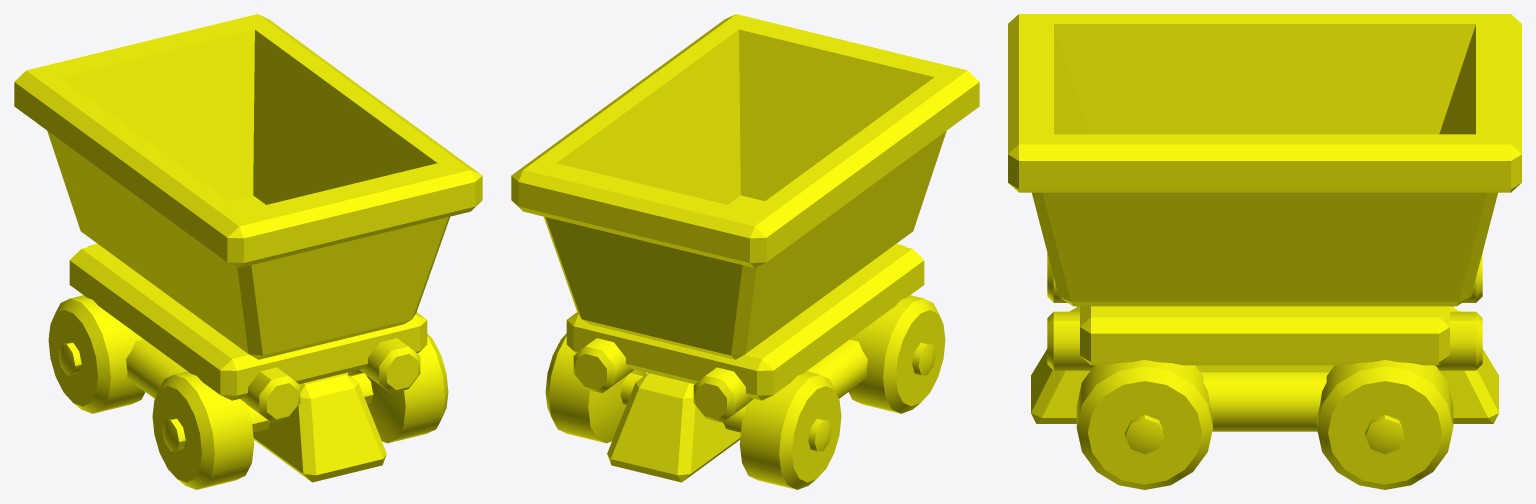
Rendered from kaykit-train-tender-empty.glb.
The picture shows the model from 3 angles, left to right: view 1: azimuth 30°, elevation 25°; view 2: azimuth 150°, elevation 25°; view 3: azimuth 270°, elevation 25°; orthographic projection. The views are drawn at different scales.
Visible parts, largest first — view 1: train_tender_empty; view 2: train_tender_empty; view 3: train_tender_empty.
Boxes of the visible parts, bbox=[...] form: train_tender_empty: bbox=[14, 14, 482, 489]; train_tender_empty: bbox=[511, 14, 979, 489]; train_tender_empty: bbox=[1008, 14, 1521, 489].
Bounding box in the file's own units: 0.4459 × 0.4767 × 0.6421.
